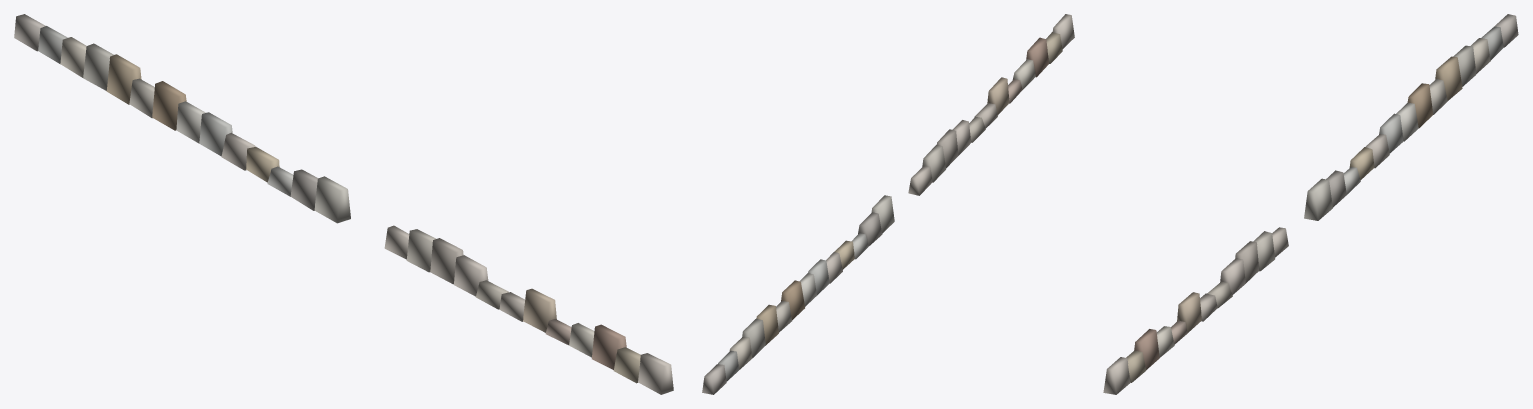
The model's file is farm_-21_-30_far.glb.
3 renders of one model, left to right at view 1: azimuth 30°, elevation 25°; view 2: azimuth 150°, elevation 25°; view 3: azimuth 330°, elevation 25°, orthographic. The views are drawn at different scales.
Parts seen in each view (by area): view 1: geometry_0; view 2: geometry_0; view 3: geometry_0.
Boxes of the visible parts, x1,y1,x2,y2 form: geometry_0: (14,14,673,394); geometry_0: (702,14,1074,394); geometry_0: (1103,14,1518,394).
Size of the model in its own units: 5.18 by 2.19 by 44.19.
